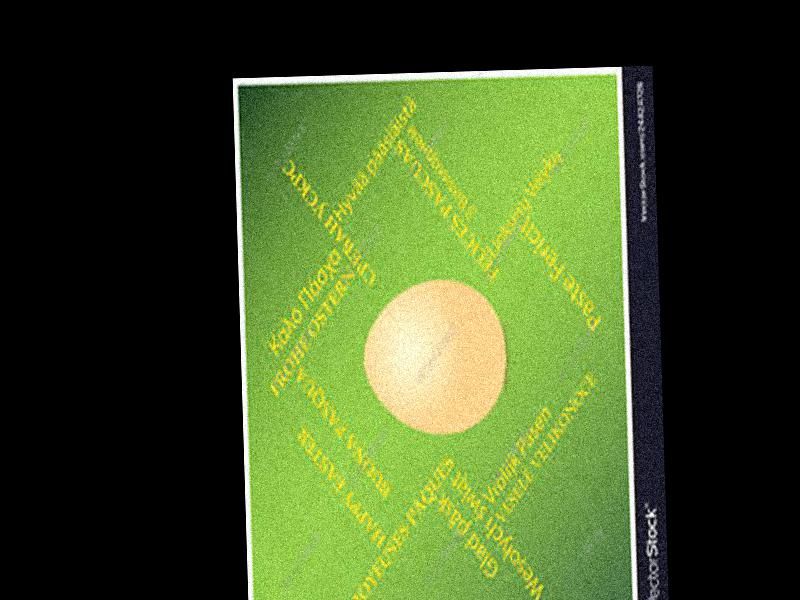Eggs: (365, 277, 506, 434)
